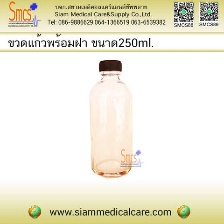bottle: (84, 54, 140, 183)
